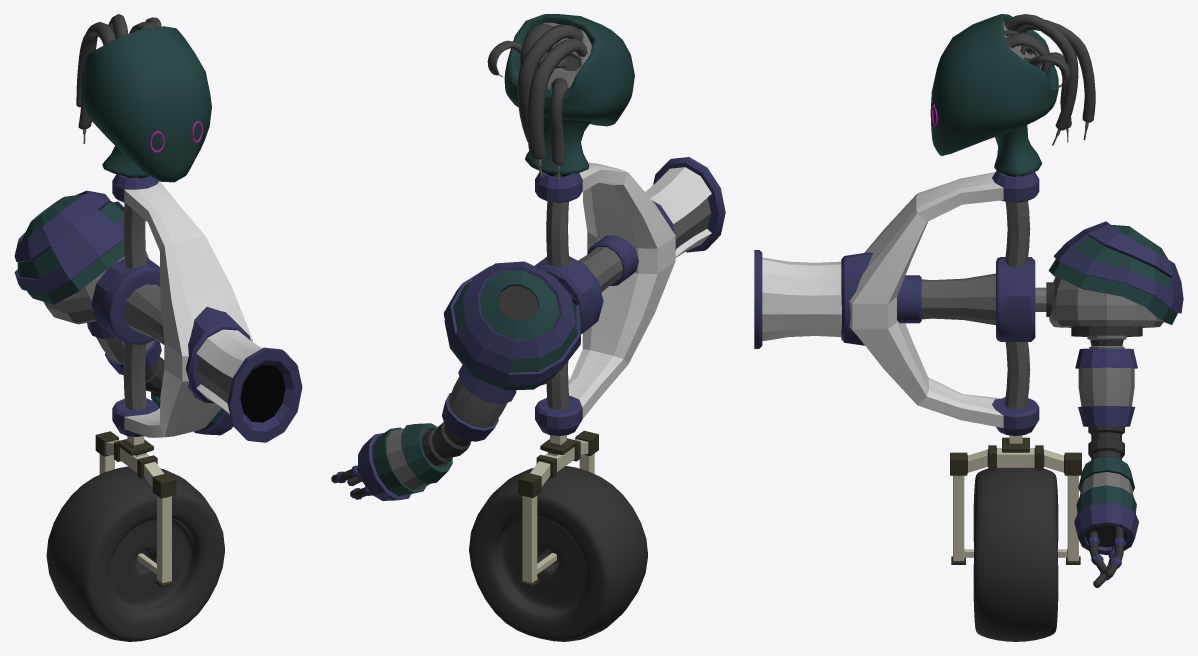
Rendered from npcRobo15.fbx.
The picture shows the model from 3 angles, left to right: view 1: azimuth 30°, elevation 25°; view 2: azimuth 150°, elevation 25°; view 3: azimuth 270°, elevation 25°; orthographic projection.
Visible parts, largest first — view 1: npcRobo15; view 2: npcRobo15; view 3: npcRobo15.
Part boxes in pixels (x1,y1,x2,y2): npcRobo15: (14,14,302,641); npcRobo15: (331,14,725,641); npcRobo15: (754,14,1183,641).
Bounding box in the file's own units: 84.12 × 192 × 122.
